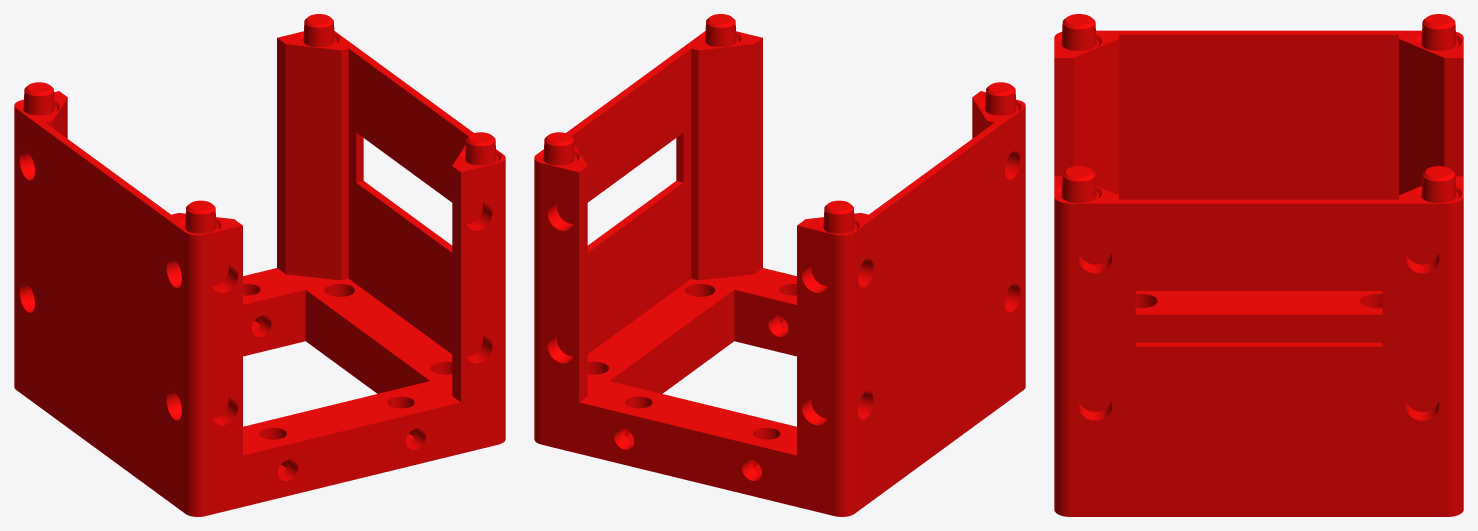
The model's file is Cube 1x1 V5_Cube 1x1 Bottom V5 Closed Slotted.obj.
3 renders of one model, left to right at view 1: azimuth 30°, elevation 25°; view 2: azimuth 150°, elevation 25°; view 3: azimuth 270°, elevation 25°, orthographic. The views are drawn at different scales.
Parts seen in each view (by area): view 1: Solid1:5; view 2: Solid1:5; view 3: Solid1:5.
Boxes of the visible parts, x1=… form: Solid1:5: x1=14, y1=14, x2=505, y2=516; Solid1:5: x1=534, y1=14, x2=1025, y2=516; Solid1:5: x1=1054, y1=14, x2=1463, y2=516.
Bounding box in the file's own units: 49.8 × 44.97 × 49.8.
